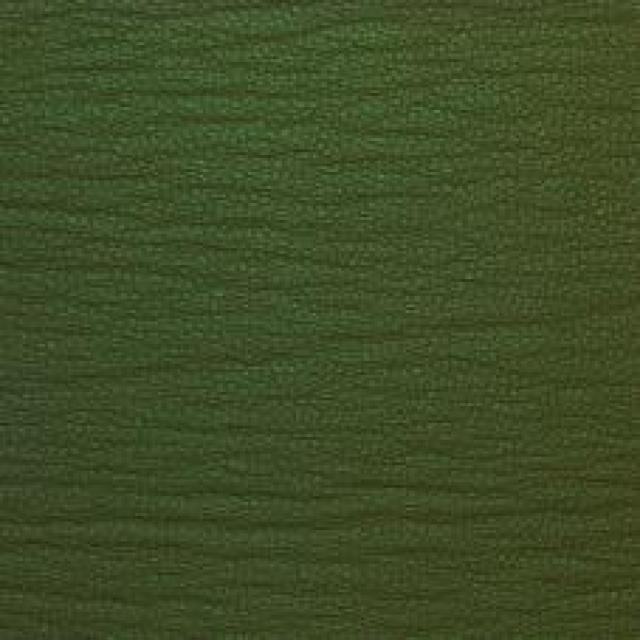Growth Marks: (105, 22, 504, 176), (136, 468, 526, 594)
